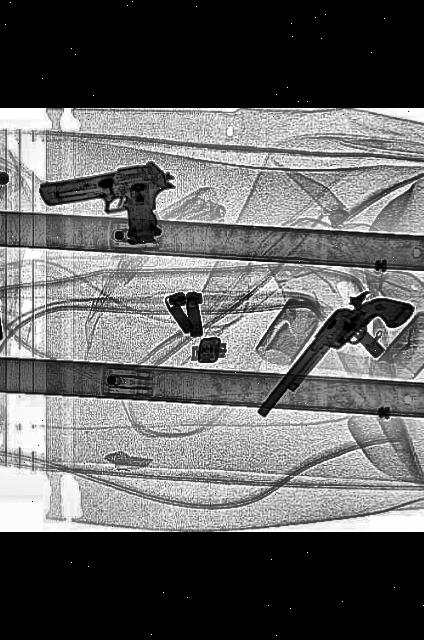Gun: (253, 282, 419, 436), (36, 159, 188, 257)
